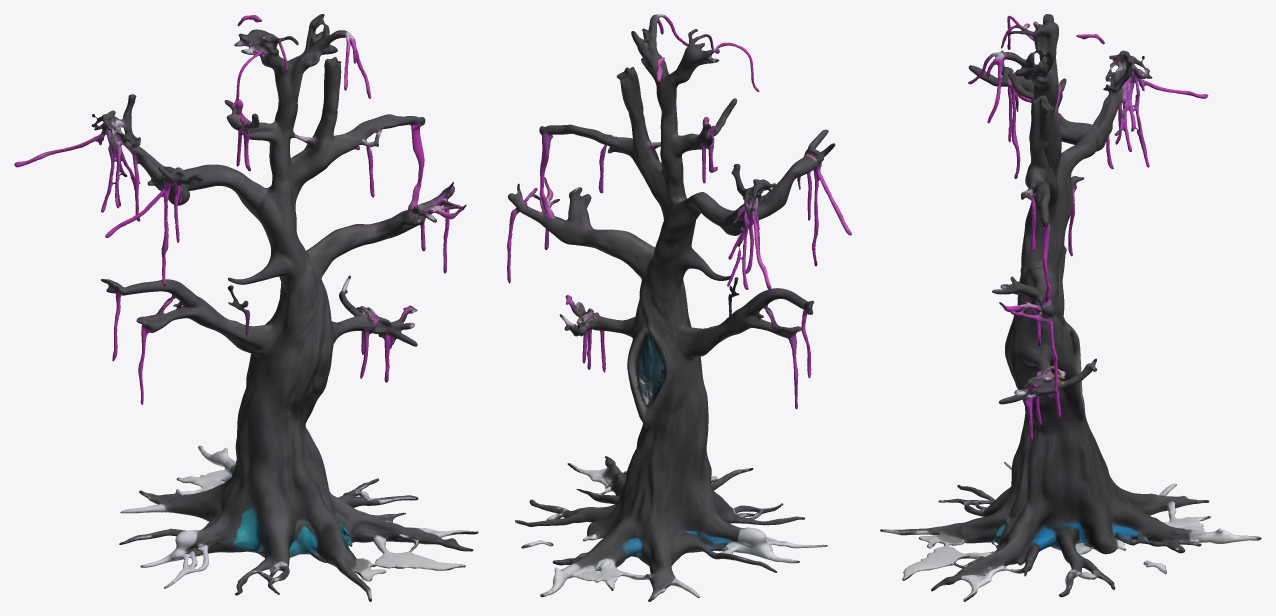
File: TreeDead.fbx
3 renders of one model, left to right at view 1: azimuth 30°, elevation 25°; view 2: azimuth 150°, elevation 25°; view 3: azimuth 270°, elevation 25°, orthographic. The views are drawn at different scales.
Visible parts, largest first — view 1: Mesh_0; view 2: Mesh_0; view 3: Mesh_0.
Part boxes in pixels (bbox=[...]): Mesh_0: bbox=[14, 14, 478, 601]; Mesh_0: bbox=[507, 14, 851, 601]; Mesh_0: bbox=[880, 14, 1261, 601].
Bounding box in the file's own units: 145 × 200 × 139.
